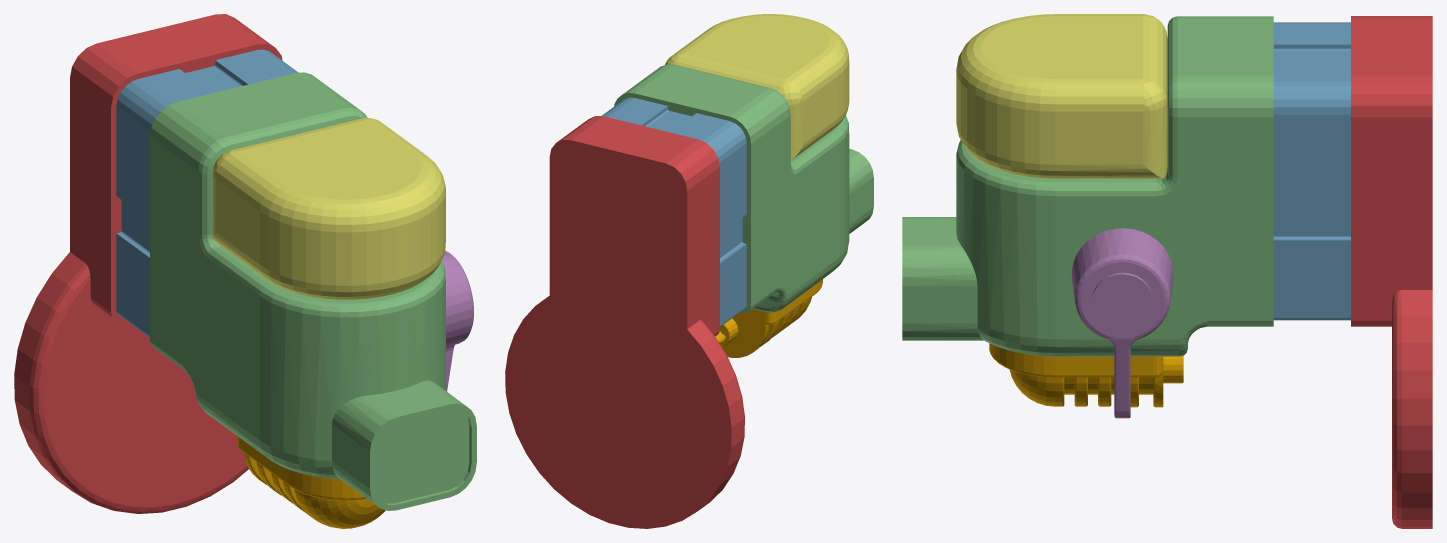
The picture shows the model from 3 angles, left to right: view 1: azimuth 30°, elevation 25°; view 2: azimuth 150°, elevation 25°; view 3: azimuth 270°, elevation 25°; orthographic projection. The views are drawn at different scales.
Visible parts, largest first — view 1: g2, g0, g5, g1, g4, g3; view 2: g0, g2, g5, g1, g4; view 3: g2, g0, g5, g1, g3, g4.
Part boxes in pixels (box(x1,y1,x2,y2)): g2: box(150, 72, 476, 510); g0: box(14, 14, 282, 513); g5: box(212, 118, 445, 299); g1: box(116, 49, 298, 337); g4: box(238, 436, 385, 528); g3: box(441, 250, 473, 391); g0: box(505, 116, 744, 528); g2: box(614, 64, 873, 312); g5: box(665, 14, 849, 160); g1: box(602, 97, 746, 326); g4: box(715, 279, 822, 357); g2: box(902, 16, 1273, 356); g0: box(1351, 16, 1432, 528); g5: box(956, 14, 1167, 178); g1: box(1273, 22, 1350, 320); g3: box(1071, 228, 1173, 418); g4: box(989, 343, 1183, 407).
Bounding box in the file's own units: 1.17 × 1.84 × 1.9.
